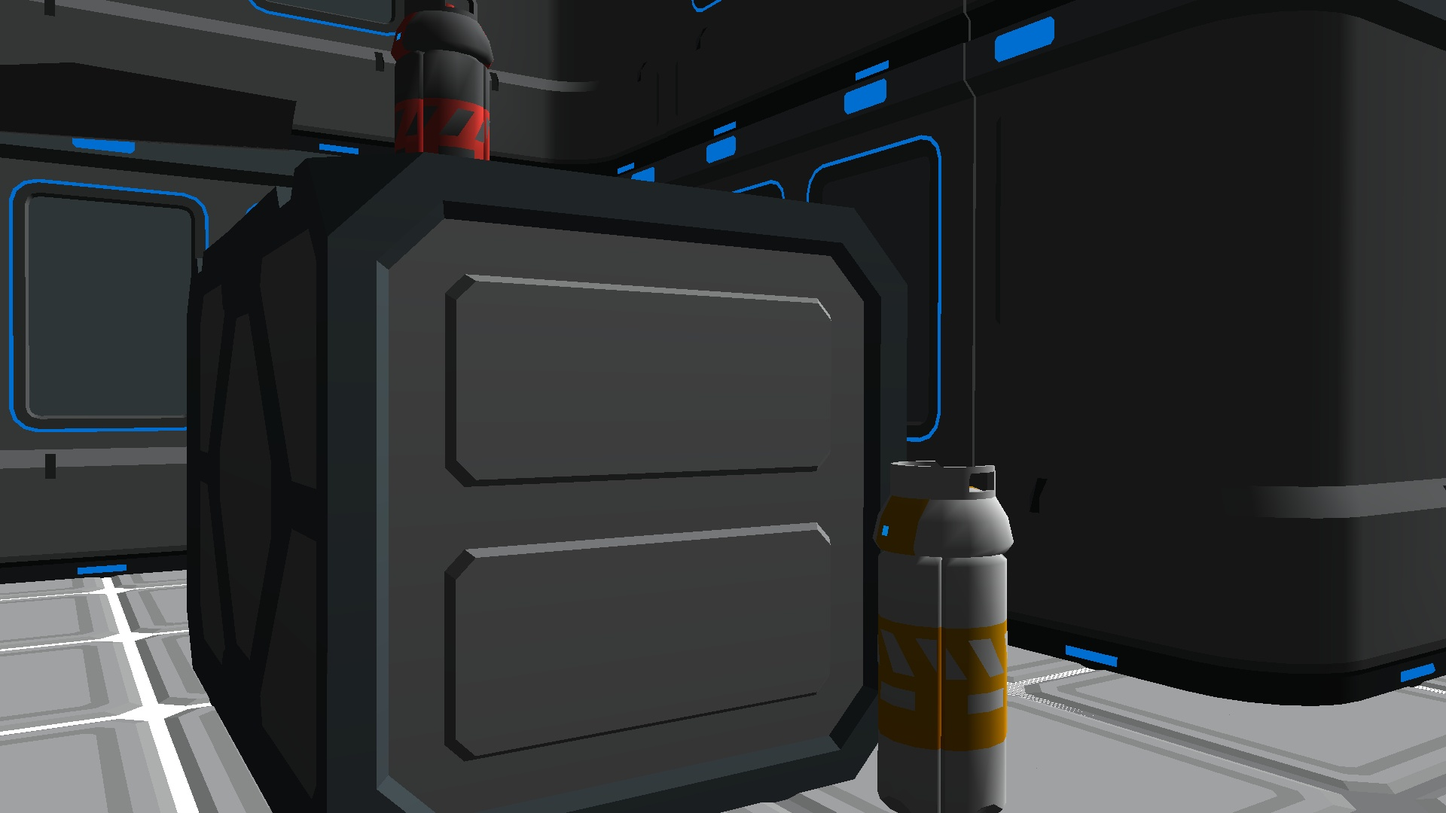red barrel: (390, 0, 494, 160)
yellow barrel: (872, 460, 1014, 813)
